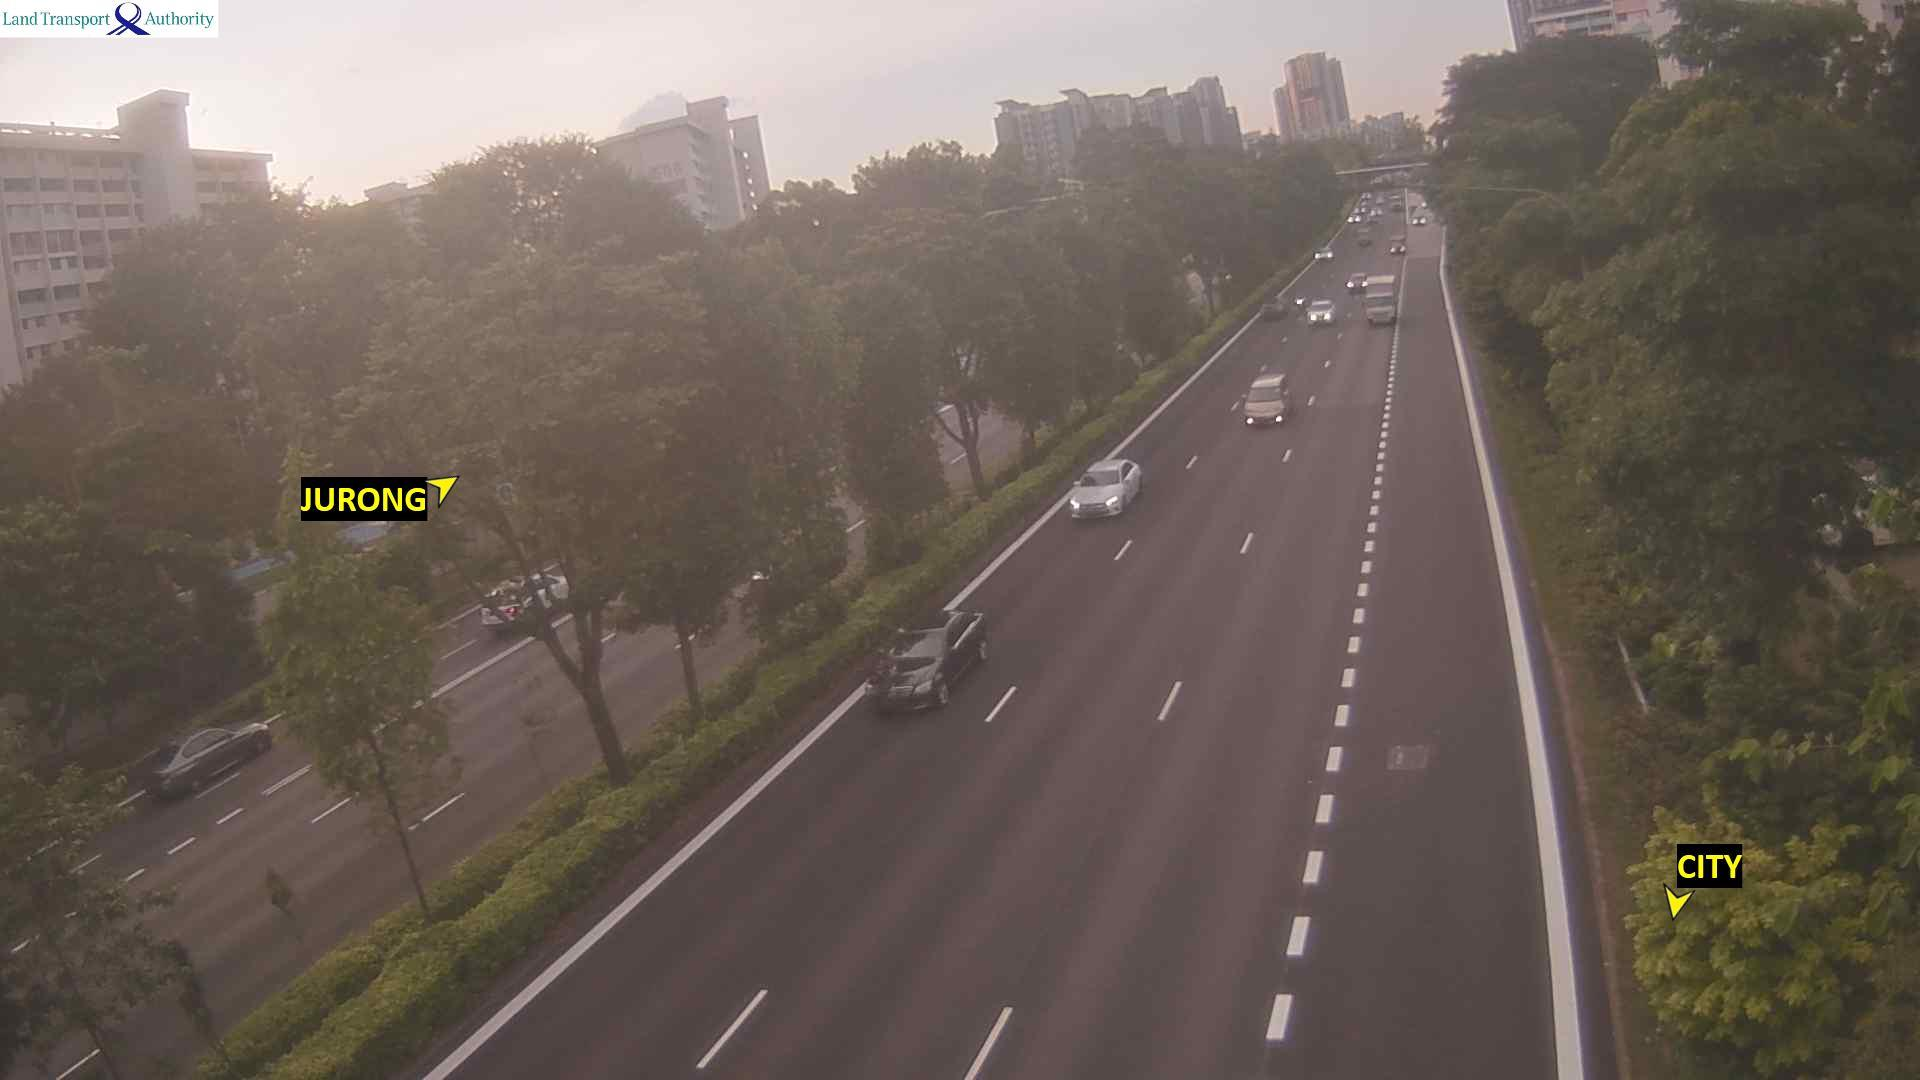cars: (862, 607, 990, 713), (145, 719, 272, 800), (479, 568, 568, 628), (1067, 458, 1142, 520), (1242, 372, 1290, 426), (1305, 298, 1335, 324), (1261, 297, 1284, 319), (1344, 272, 1367, 290), (1389, 235, 1406, 255), (1356, 228, 1371, 247), (1313, 247, 1333, 260), (1411, 212, 1428, 225), (1371, 207, 1383, 219), (1346, 212, 1360, 223), (1356, 204, 1366, 216), (1367, 215, 1378, 225)
motorcycle: (1294, 294, 1305, 309), (1422, 200, 1427, 208)
trucks: (1361, 273, 1396, 324), (1389, 195, 1406, 212)
